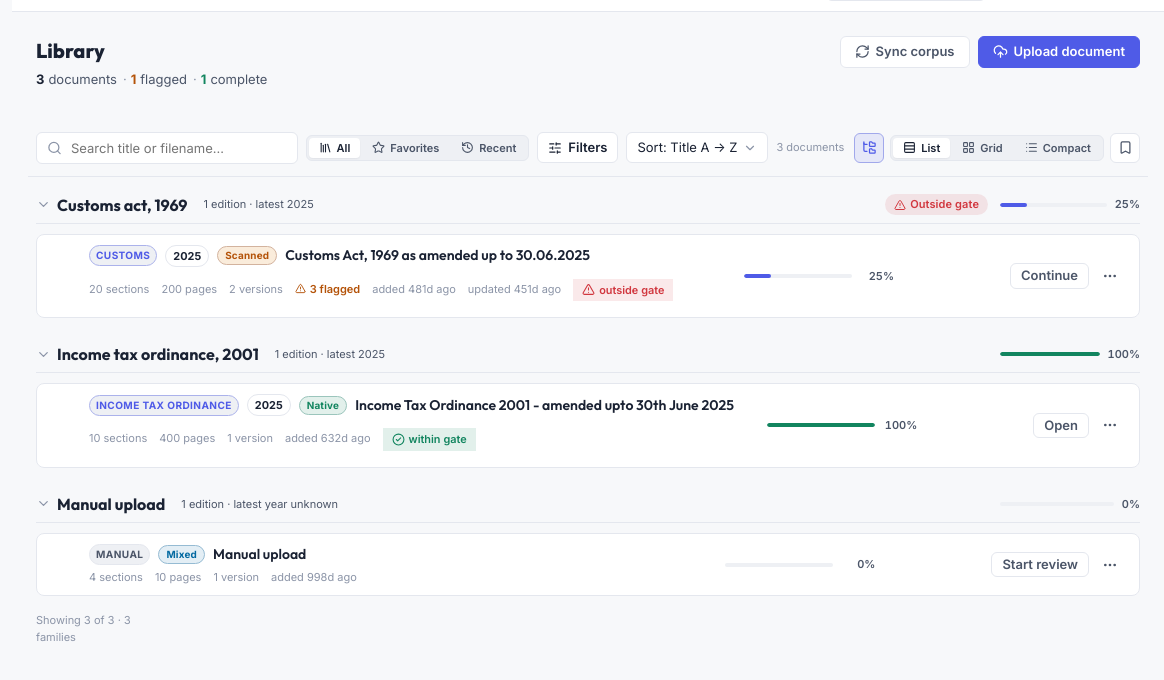
Test: Library page › toggles between grouped and flat lists
The width and height of the screenshot is (1164, 680).
Expected: the text "3 documents" is shown, [776,139,844,156]
Expected: the number of elements with class "family-group" is 3, [36,192,1140,318]; [36,342,1140,468]; [36,492,1140,596]
Click the button named "Grouped by statute family" at (869, 148), box [854,132,884,162]
(page scrolled)
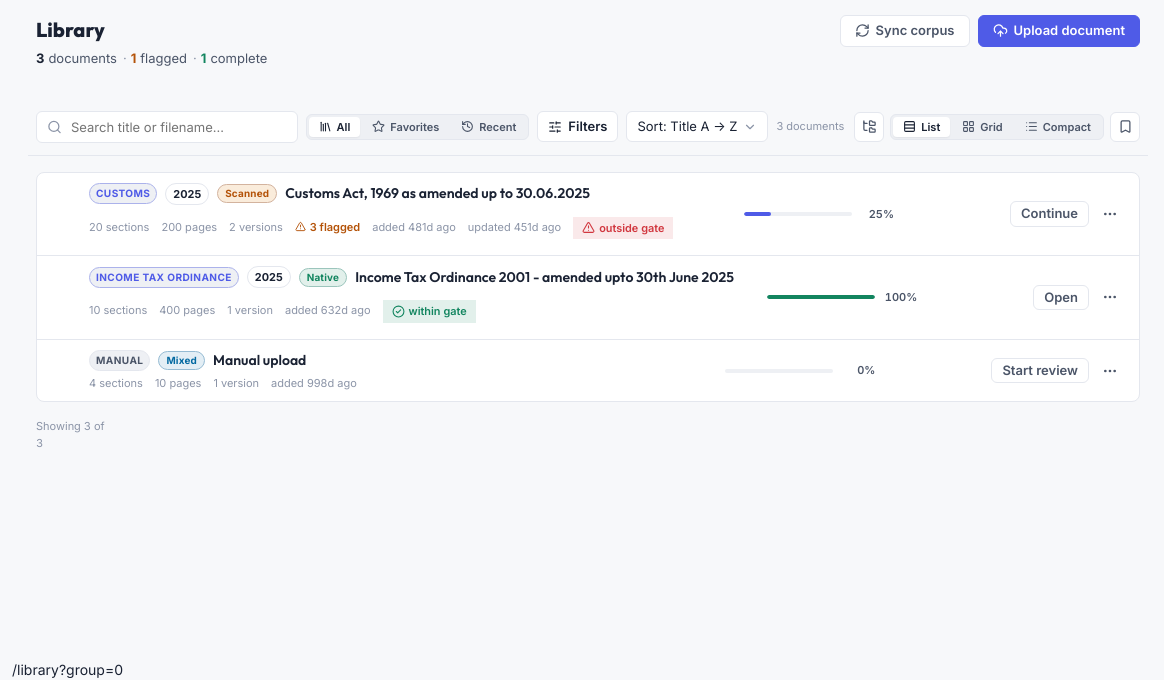
Result: no elements with class "family-group" are shown
Result: the text with test id "location" shows "group=0" at [59,661,123,678]
